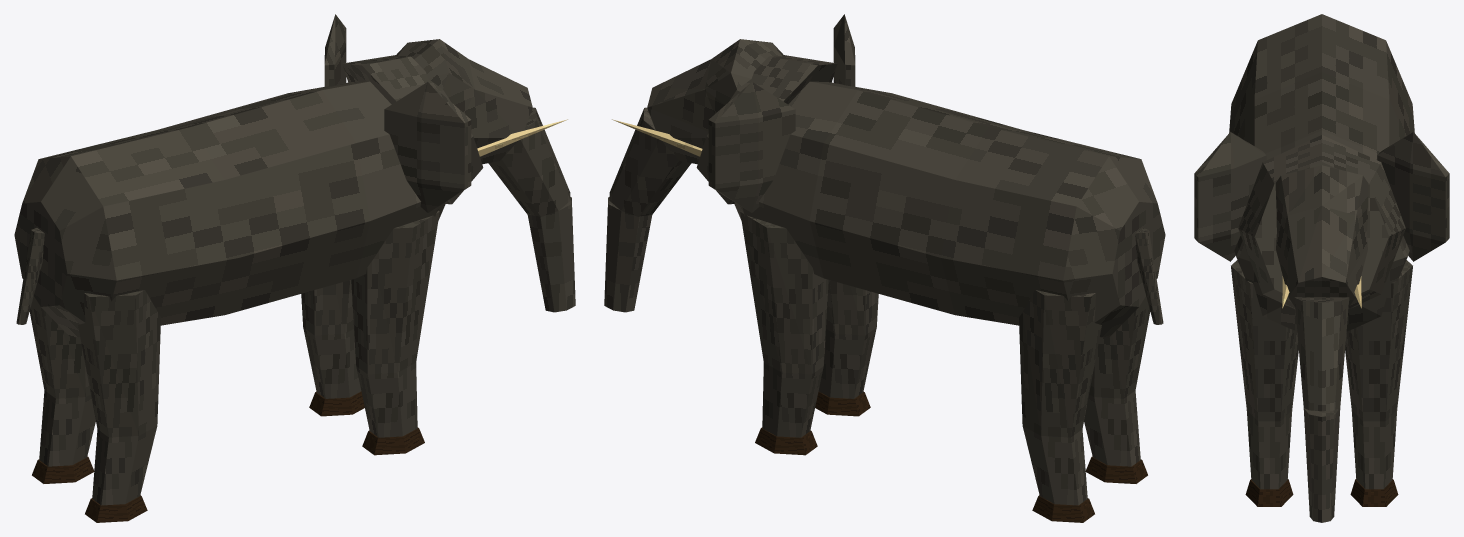
The model's file is elefante_guerra.glb.
3 views of the same model, side by side, from view 1: azimuth 30°, elevation 25°; view 2: azimuth 150°, elevation 25°; view 3: azimuth 270°, elevation 25° (orthographic).
Visible parts, largest first — view 1: cuerpo, pata_trasera_der, pata_delantera_der, orejas, trompa, pata_trasera_izq, cabeza, pata_delantera_izq, cuello, cola, pezuna_delantera_der, pezuna_trasera_izq (+2 smaller); view 2: cuerpo, pata_trasera_izq, pata_delantera_izq, orejas, trompa, pata_trasera_der, cabeza, pata_delantera_der, cuello, cola, pezuna_delantera_izq, pezuna_trasera_izq (+2 smaller); view 3: cuerpo, orejas, cabeza, cuello, pata_delantera_izq, pata_delantera_der, trompa, pezuna_delantera_izq, pezuna_delantera_der.
Part boxes in pixels (left/top/right/bottom): cuerpo: left=14, top=81, right=445, bottom=337; pata_trasera_der: left=78, top=290, right=160, bottom=505; pata_delantera_der: left=351, top=210, right=439, bottom=437; orejas: left=324, top=14, right=471, bottom=212; trompa: left=488, top=107, right=575, bottom=312; pata_trasera_izq: left=29, top=296, right=95, bottom=466; cabeza: left=396, top=39, right=532, bottom=164; pata_delantera_izq: left=301, top=280, right=361, bottom=398; cuello: left=342, top=55, right=483, bottom=204; cola: left=16, top=228, right=44, bottom=324; pezuna_delantera_der: left=362, top=427, right=424, bottom=455; pezuna_trasera_izq: left=32, top=456, right=94, bottom=483; cuerpo: left=734, top=81, right=1165, bottom=337; pata_trasera_izq: left=1019, top=290, right=1101, bottom=505; pata_delantera_izq: left=740, top=210, right=828, bottom=437; orejas: left=708, top=14, right=855, bottom=212; trompa: left=604, top=107, right=691, bottom=312; pata_trasera_der: left=1084, top=296, right=1150, bottom=466; cabeza: left=647, top=39, right=783, bottom=164; pata_delantera_der: left=818, top=280, right=878, bottom=398; cuello: left=696, top=55, right=837, bottom=204; cola: left=1135, top=228, right=1163, bottom=324; pezuna_delantera_izq: left=755, top=427, right=817, bottom=455; pezuna_trasera_izq: left=1032, top=495, right=1094, bottom=522; cuerpo: left=1229, top=14, right=1414, bottom=331; orejas: left=1194, top=132, right=1449, bottom=261; cabeza: left=1275, top=165, right=1368, bottom=306; cuello: left=1238, top=135, right=1405, bottom=309; pata_delantera_izq: left=1345, top=260, right=1412, bottom=489; pata_delantera_der: left=1231, top=260, right=1298, bottom=489; trompa: left=1294, top=297, right=1349, bottom=522; pezuna_delantera_izq: left=1350, top=479, right=1398, bottom=506; pezuna_delantera_der: left=1245, top=479, right=1293, bottom=506.
Size of the model in its own units: 5 by 3.2 by 2.
1 material, 1 textured.
